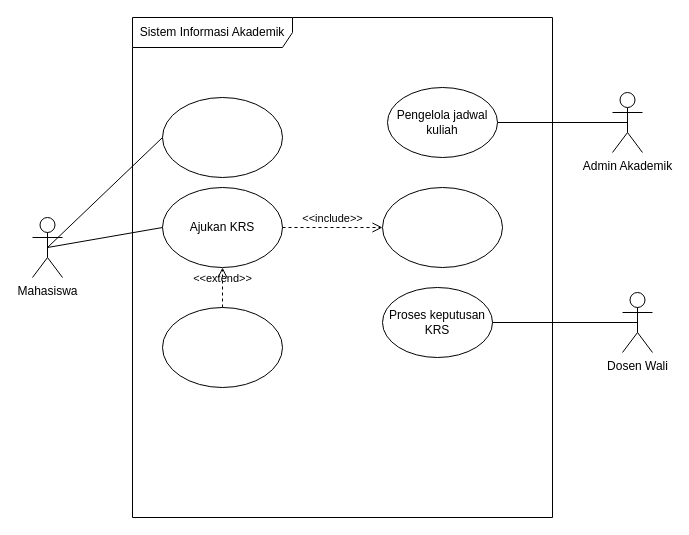
Image size: 689x535. Some labels were removed from this diagram. The shapes that lost their labels are listed below. From the top down, each one's centre as x and y in pixels, then its label:
At (222,137): "Lihat Jadwal Kuliah".
At (442,227): "Validasi KRS".
At (222,347): "Unduh bukti pengajuan KRS".
